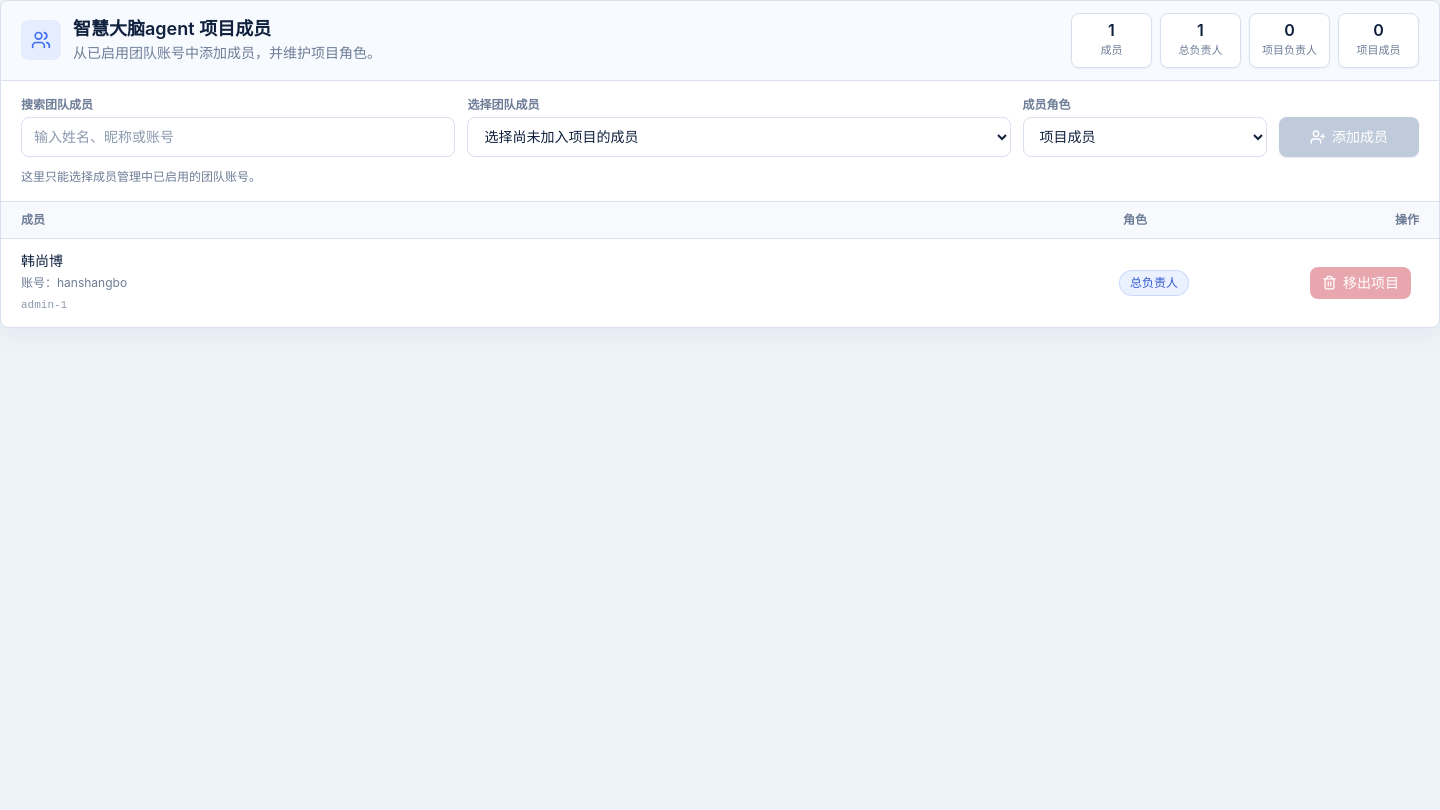
Test: ProjectMembersPanel › loads the selected project roster and lets an administrator add and remove a member
Expected: the heading "智慧大脑agent 项目成员" is shown, [73,18,271,39]
Expected: the text "韩尚博" is shown, [21,252,63,268]
Type "唐" into the field labelled "搜索团队成员" at (238, 136), box [21,116,456,156]
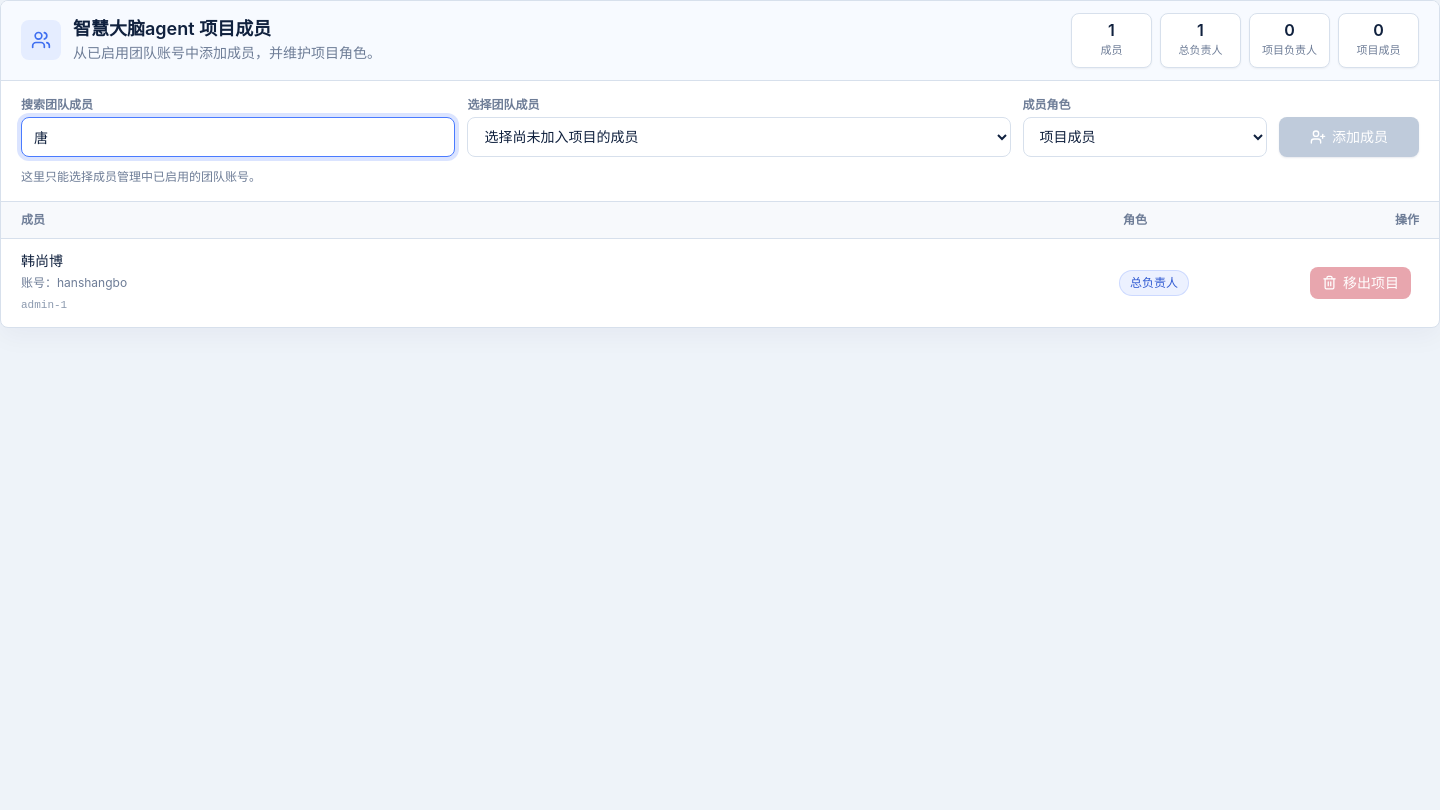
Select "唐伟翔（账号：tangweixiang）" in the dropdown labelled "选择团队成员" at (739, 136), box [468,116,1011,156]
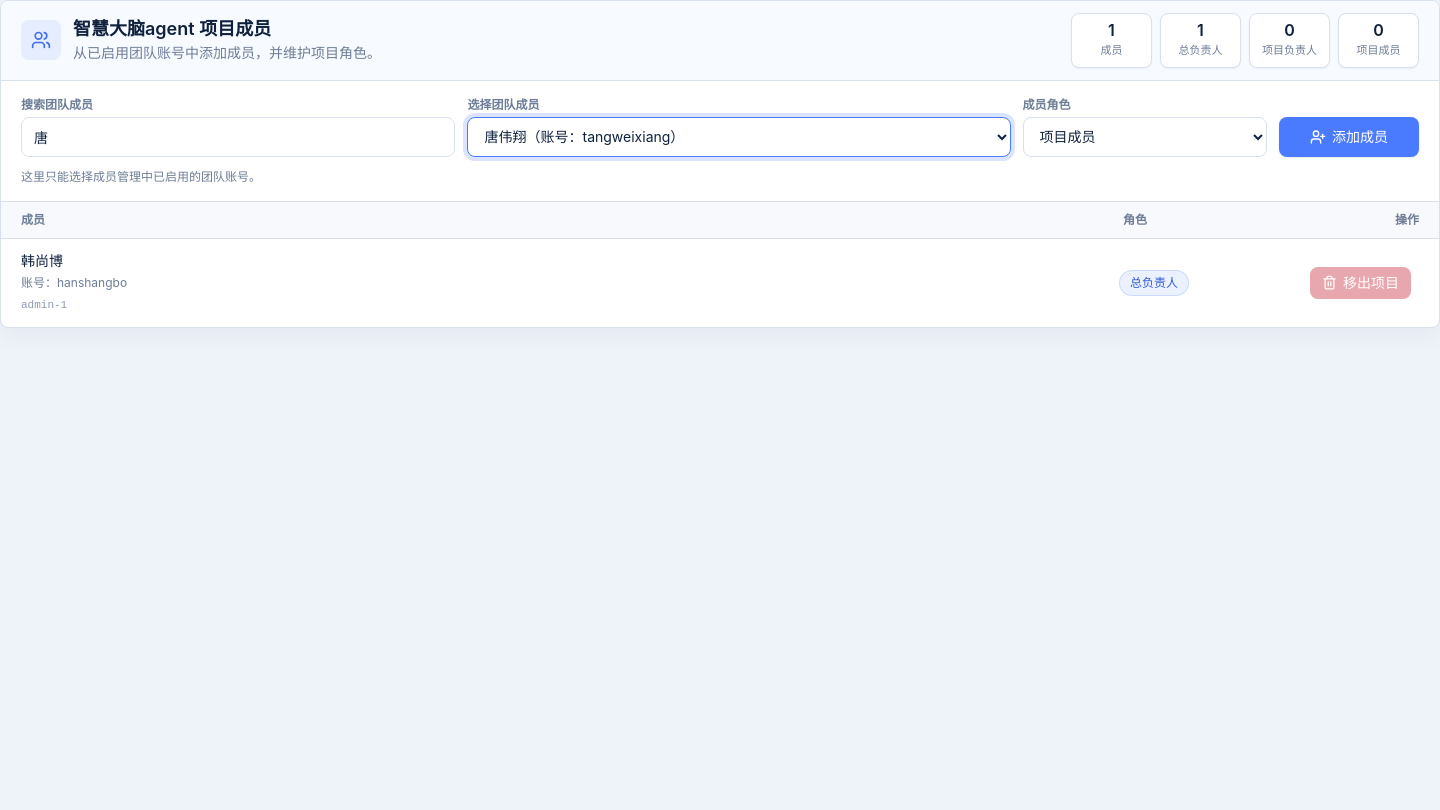
Select "总负责人" in the dropdown labelled "成员角色" at (1145, 136), box [1023,116,1267,156]
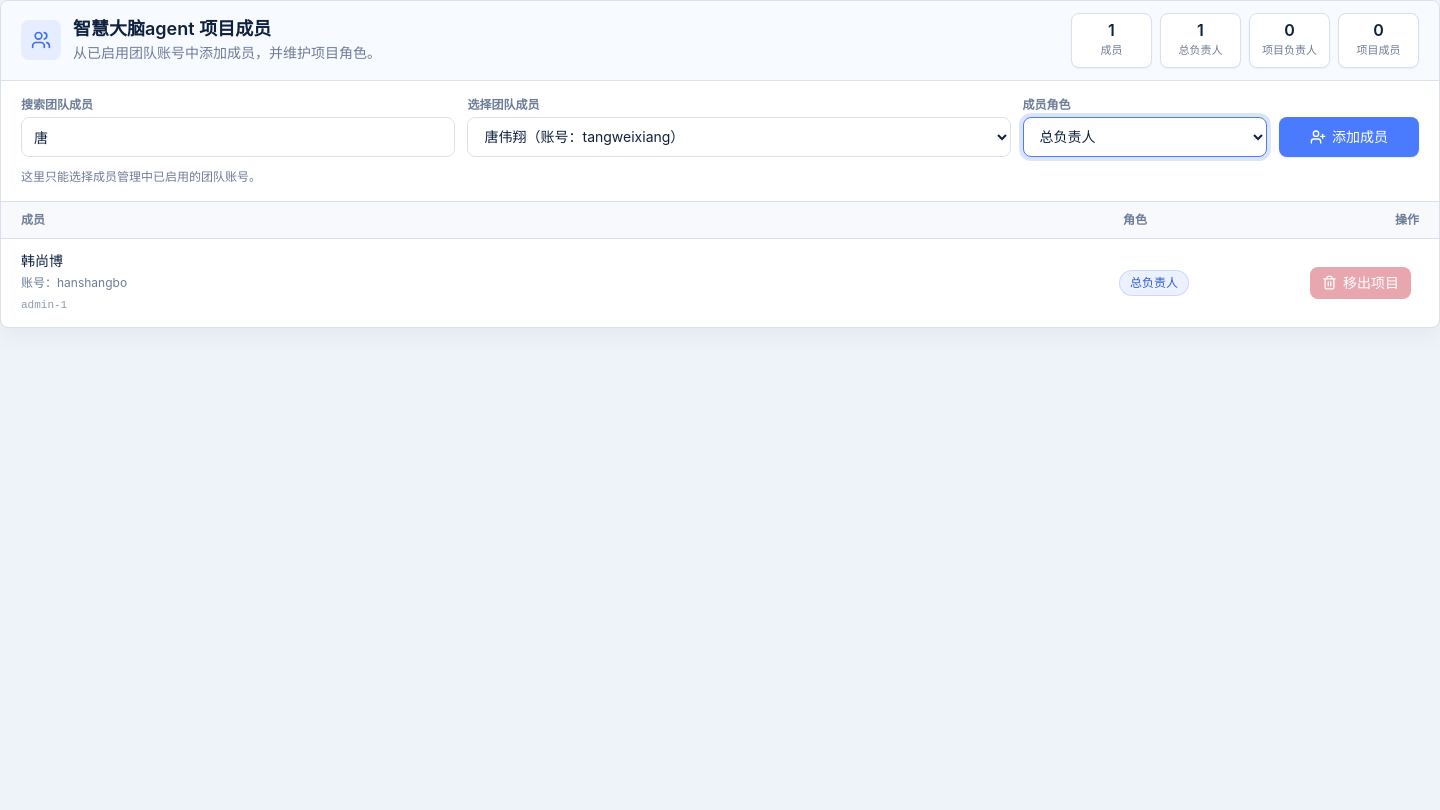
Click the button "添加成员" at (1349, 136), box [1279,116,1419,156]
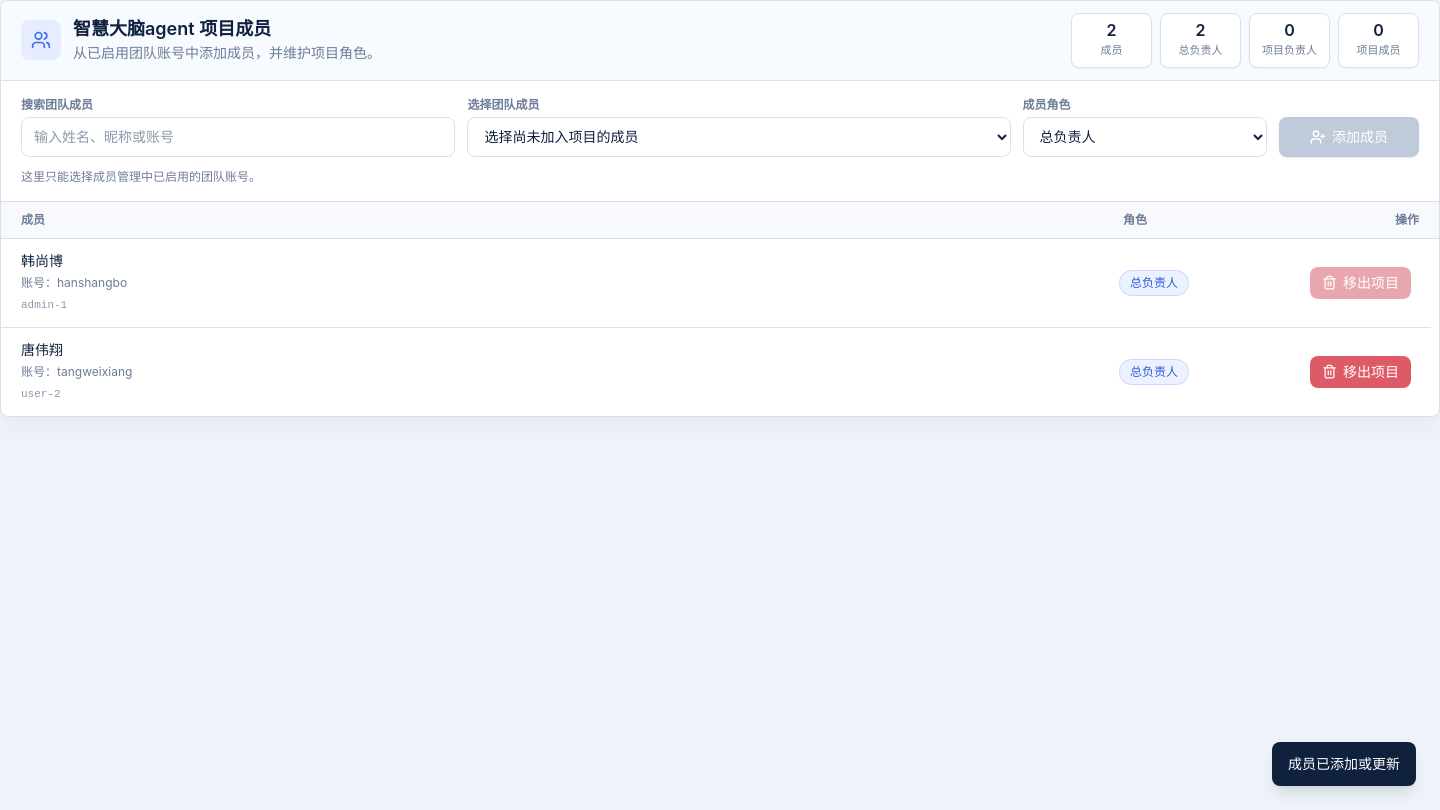
Expected: the text "唐伟翔" is shown, [21,340,63,358]
Click the button with aria-label "移出项目 tangweixiang" at (1360, 372), box [1310,356,1411,388]
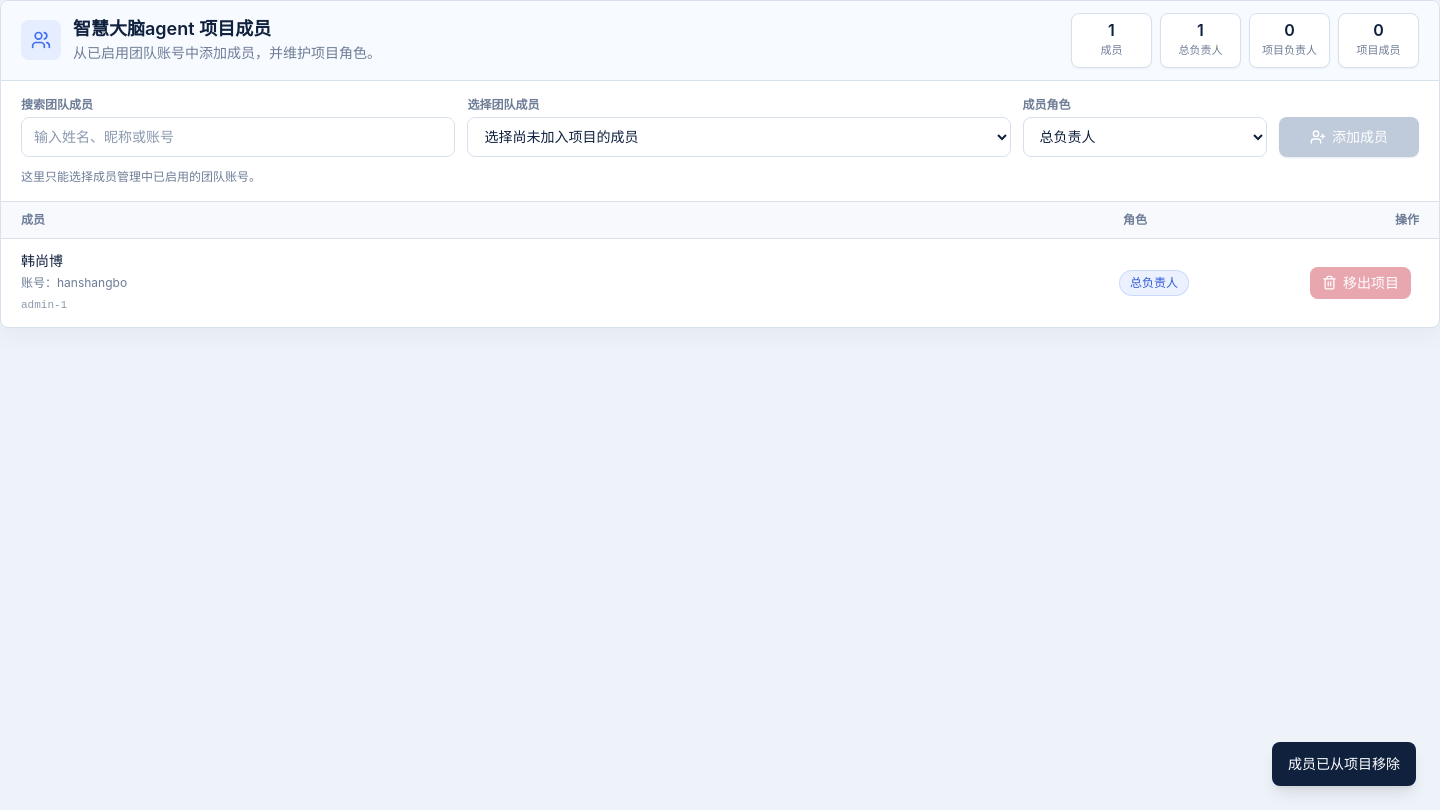
Expected: the text "唐伟翔" is gone
